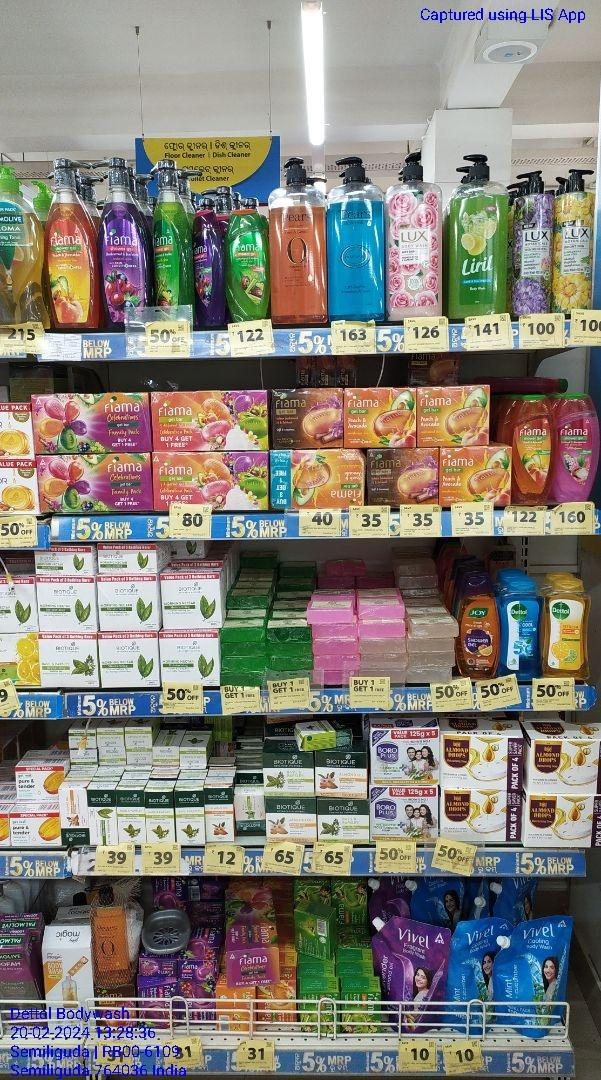Dettol_Bodywash_Cool: (501, 579, 542, 676)
Dettol_Bodywash_Refresh: (543, 579, 589, 677)
Fiama_Shower_Gel_Lemongrass_and_Jojoba_250ML: (224, 209, 269, 318)
Fiama_Shower_Gel_Patchouli_and_Macadamia_250ML: (555, 396, 601, 501)
Fiama_Shower_Gel_Peach_and_Avocado_250ML: (512, 399, 554, 503)
Joy_Shower_Gel_Mandarin_and_Lemongrass_250ML: (459, 572, 498, 678)
